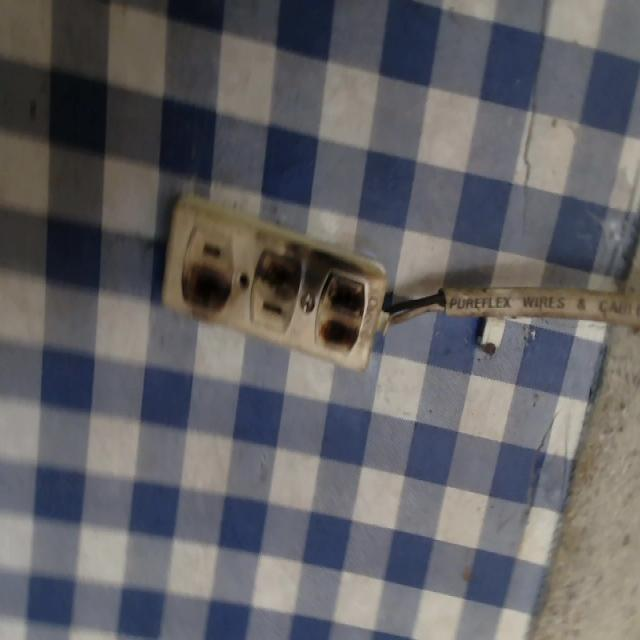-: (317, 265, 369, 367), (175, 260, 238, 323), (251, 234, 309, 294)
